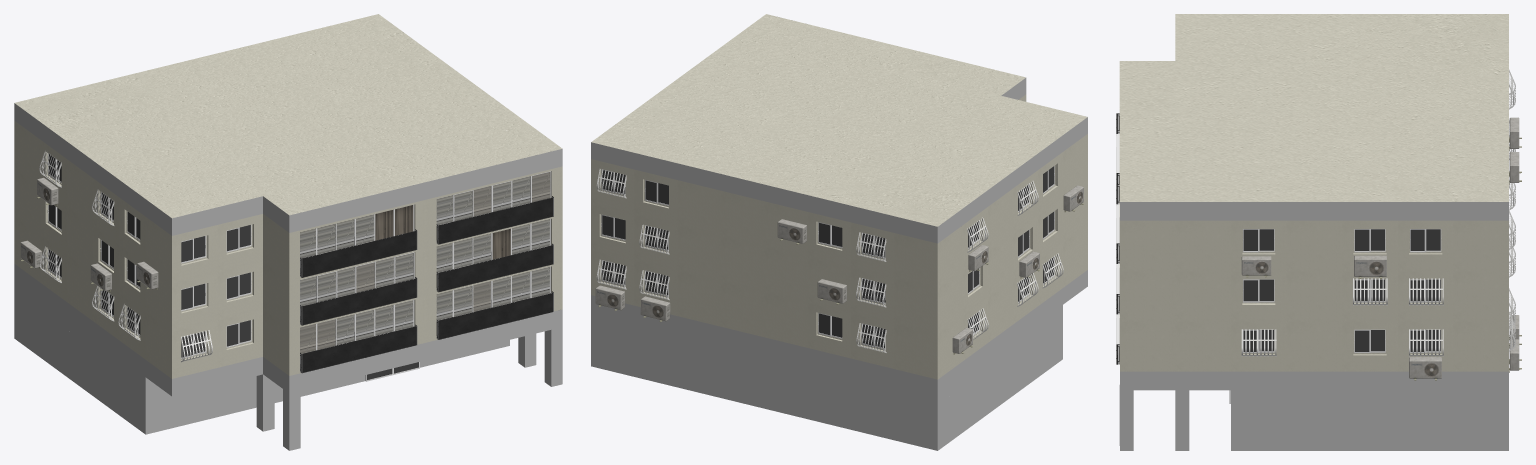
File: SM_Building_02_c.fbx
The picture shows the model from 3 angles, left to right: view 1: azimuth 30°, elevation 25°; view 2: azimuth 150°, elevation 25°; view 3: azimuth 270°, elevation 25°; orthographic projection. The views are drawn at different scales.
Visible parts, largest first — view 1: SM_Building_02_c; view 2: SM_Building_02_c; view 3: SM_Building_02_c.
Boxes of the visible parts, x1,y1,x2,y2 form: SM_Building_02_c: [14, 14, 562, 450]; SM_Building_02_c: [591, 14, 1087, 450]; SM_Building_02_c: [1116, 14, 1521, 450].
Size of the model in its own units: 2538 by 1485 by 2190.
